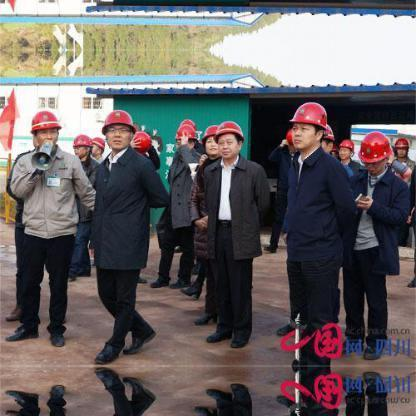helmet: (281, 99, 330, 130), (91, 108, 135, 136), (356, 129, 390, 165), (26, 108, 66, 136), (213, 119, 250, 141), (126, 128, 153, 155), (176, 124, 197, 143), (67, 132, 88, 148), (396, 136, 415, 152), (92, 136, 109, 151), (339, 134, 355, 149)
